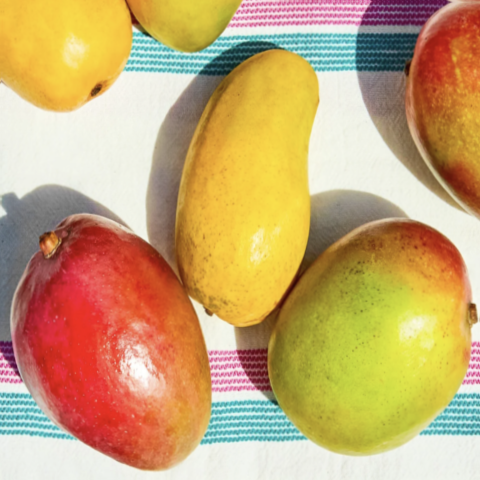mango: (0, 168, 229, 480), (257, 169, 480, 475), (161, 28, 330, 352)
